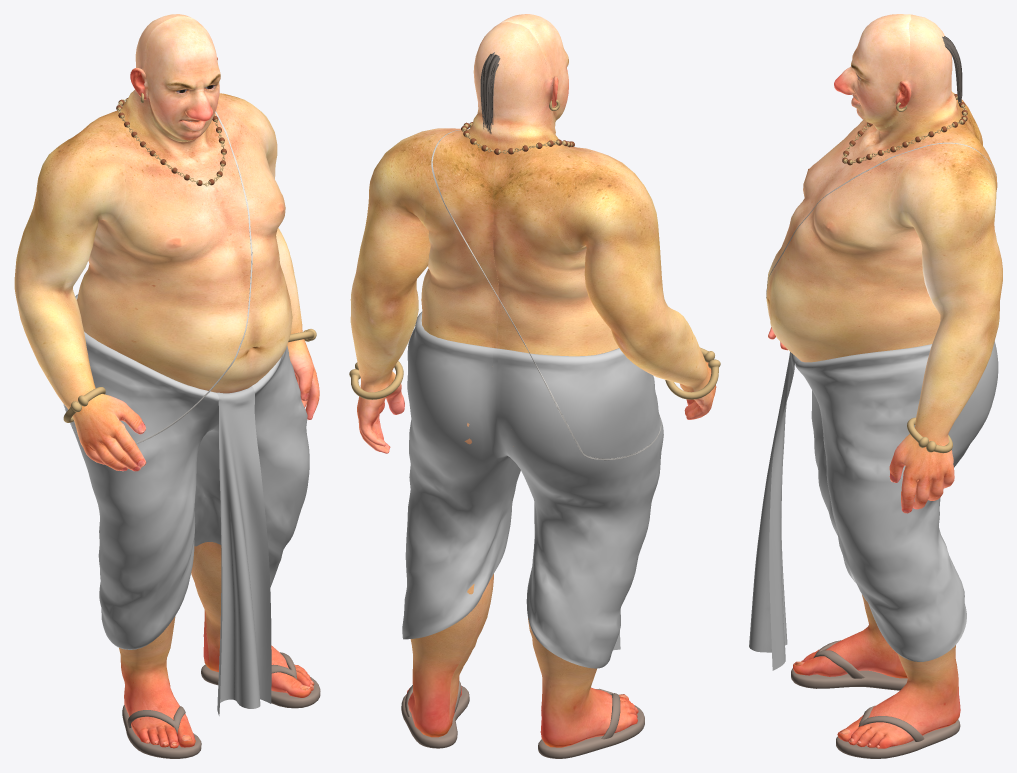
File: vaidya_a.glb
The picture shows the model from 3 angles, left to right: view 1: azimuth 30°, elevation 25°; view 2: azimuth 150°, elevation 25°; view 3: azimuth 270°, elevation 25°; orthographic projection. The views are drawn at different scales.
Visible parts, largest first — view 1: polySurface1, polySurface239, polySurface240, polySurface238, polySurface96, polySurface241; view 2: polySurface1, polySurface239, polySurface240, polySurface241, polySurface233, polySurface96, polySurface238; view 3: polySurface1, polySurface239, polySurface240, polySurface238, polySurface241, polySurface233.
Boxes of the visible parts, x1,y1,x2,y2 form: polySurface1: (14, 14, 319, 748); polySurface239: (64, 294, 309, 715); polySurface240: (122, 652, 320, 758); polySurface238: (116, 98, 226, 186); polySurface96: (63, 111, 252, 444); polySurface241: (63, 329, 316, 422); polySurface1: (350, 14, 716, 747); polySurface239: (402, 311, 663, 668); polySurface240: (401, 680, 644, 758); polySurface241: (349, 347, 720, 399); polySurface233: (480, 52, 500, 133); polySurface96: (431, 130, 661, 460); polySurface238: (461, 122, 574, 154); polySurface1: (766, 14, 1002, 748); polySurface239: (749, 341, 998, 670); polySurface240: (791, 640, 960, 758); polySurface238: (842, 93, 967, 165); polySurface241: (907, 417, 952, 453); polySurface233: (942, 36, 962, 104).
Size of the model in its own units: 0.8208 by 1.79 by 0.6025.
Materials: 14 (8 with a texture image).
